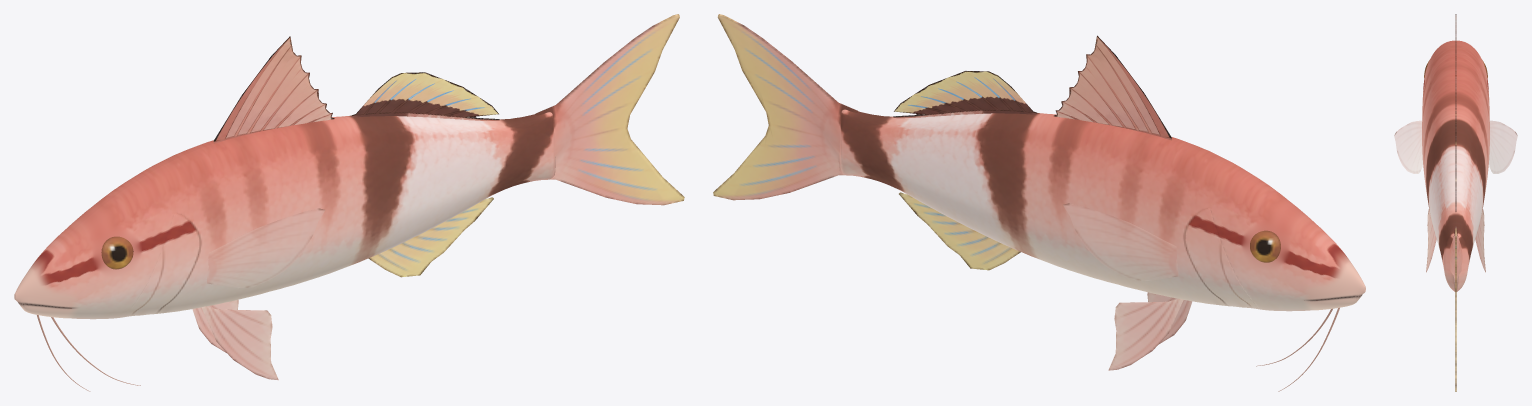
The model's file is ojisan-light-v5.glb.
3 views of the same model, side by side, from view 1: azimuth 30°, elevation 25°; view 2: azimuth 150°, elevation 25°; view 3: azimuth 270°, elevation 25° (orthographic). The views are drawn at different scales.
Parts seen in each view (by area): view 1: body, caudal, dorsal_1, pectoral_1, dorsal_2, pelvic_1, operculum_1, anal, eye_1, pelvic_-1; view 2: body, caudal, dorsal_1, pectoral_-1, dorsal_2, pelvic_-1, operculum_-1, anal, eye_-1, pelvic_1; view 3: body, pectoral_-1, pectoral_1, caudal, pelvic_-1, pelvic_1, dorsal_2, dorsal_1.
Boxes of the visible parts, box(x1,y1,x2,y2) form: body: box(14, 112, 555, 319); caudal: box(535, 14, 684, 205); dorsal_1: box(213, 36, 334, 143); pectoral_1: box(207, 208, 325, 287); dorsal_2: box(351, 72, 499, 120); pelvic_1: box(201, 306, 278, 380); operculum_1: box(122, 213, 199, 317); anal: box(368, 197, 493, 277); eye_1: box(101, 236, 133, 269); pelvic_-1: box(192, 300, 238, 352); body: box(838, 109, 1365, 311); caudal: box(713, 14, 858, 200); dorsal_1: box(1054, 35, 1171, 140); pectoral_-1: box(1063, 203, 1178, 280); dorsal_2: box(893, 71, 1037, 118); pelvic_-1: box(1108, 298, 1183, 370); operculum_-1: box(1185, 208, 1260, 309); anal: box(899, 192, 1020, 270); eye_-1: box(1250, 230, 1280, 262); pelvic_1: box(1147, 292, 1192, 343); body: box(1422, 40, 1489, 291); pectoral_-1: box(1489, 120, 1517, 173); pectoral_1: box(1394, 120, 1422, 173); caudal: box(1449, 226, 1462, 391); pelvic_-1: box(1475, 209, 1485, 272); pelvic_1: box(1426, 209, 1436, 272); dorsal_2: box(1455, 111, 1456, 212); dorsal_1: box(1455, 14, 1456, 109).
Size of the model in its own units: 0.25 by 0.1155 by 0.0479.
Materials: 5 (5 with a texture image).
